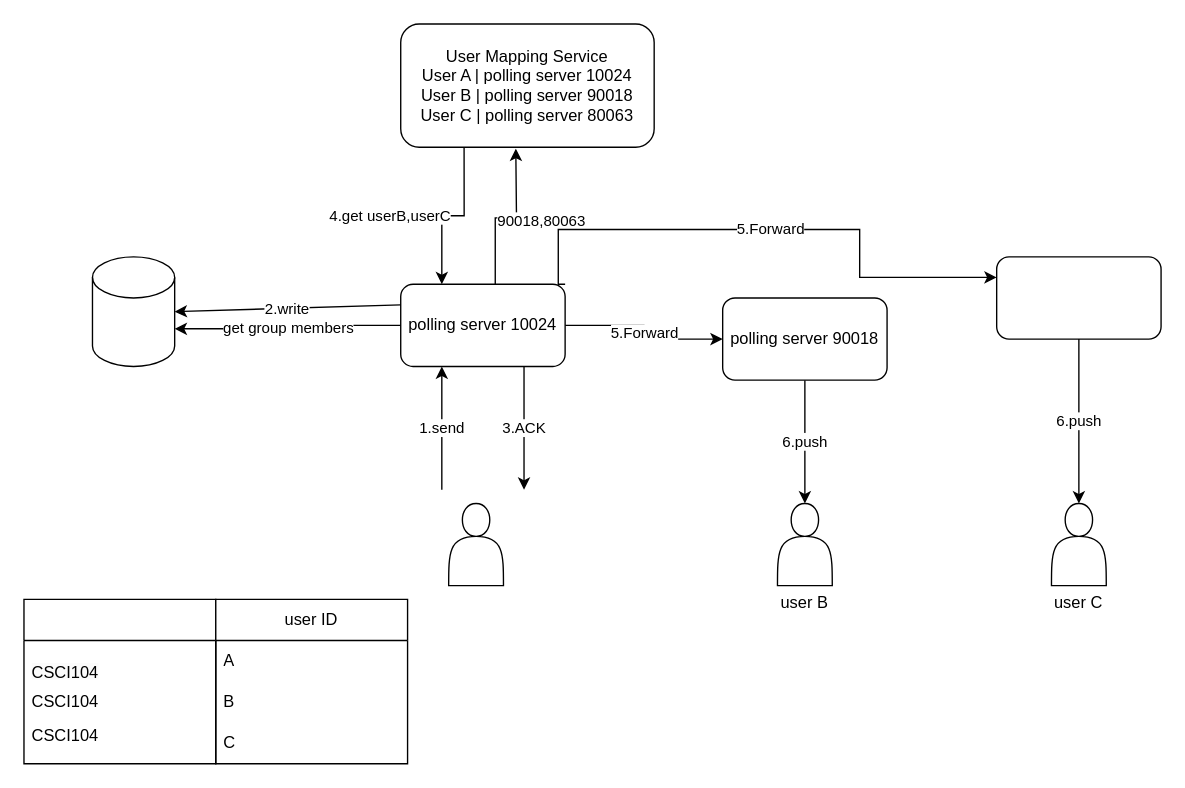
Some shapes in this 1185 by 788 pixel diagram are drawn without their labels. Here are the shapes that lost their labels. From the top down, the box of each, then its label:
(995, 256, 1161, 339): poling server 80063
(447, 502, 503, 586): user A
(23, 598, 216, 764): Group ID
